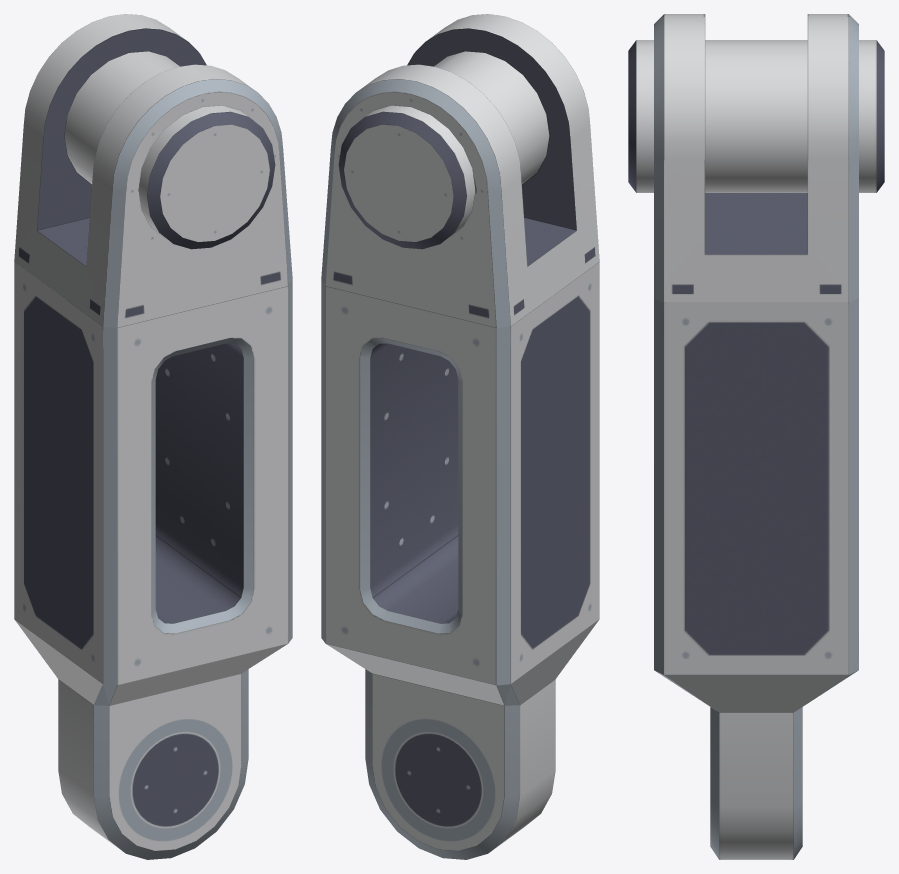
The model's file is Articulated_Arm_02.FBX.
The picture shows the model from 3 angles, left to right: view 1: azimuth 30°, elevation 25°; view 2: azimuth 150°, elevation 25°; view 3: azimuth 270°, elevation 25°; orthographic projection. The views are drawn at different scales.
Visible parts, largest first — view 1: Articulated_Arm_02; view 2: Articulated_Arm_02; view 3: Articulated_Arm_02.
Part boxes in pixels (left/top/right/bottom): Articulated_Arm_02: left=14, top=14, right=292, bottom=859; Articulated_Arm_02: left=321, top=14, right=599, bottom=859; Articulated_Arm_02: left=628, top=14, right=884, bottom=859.
Bounding box in the file's own units: 2.22 × 8.91 × 2.5.
